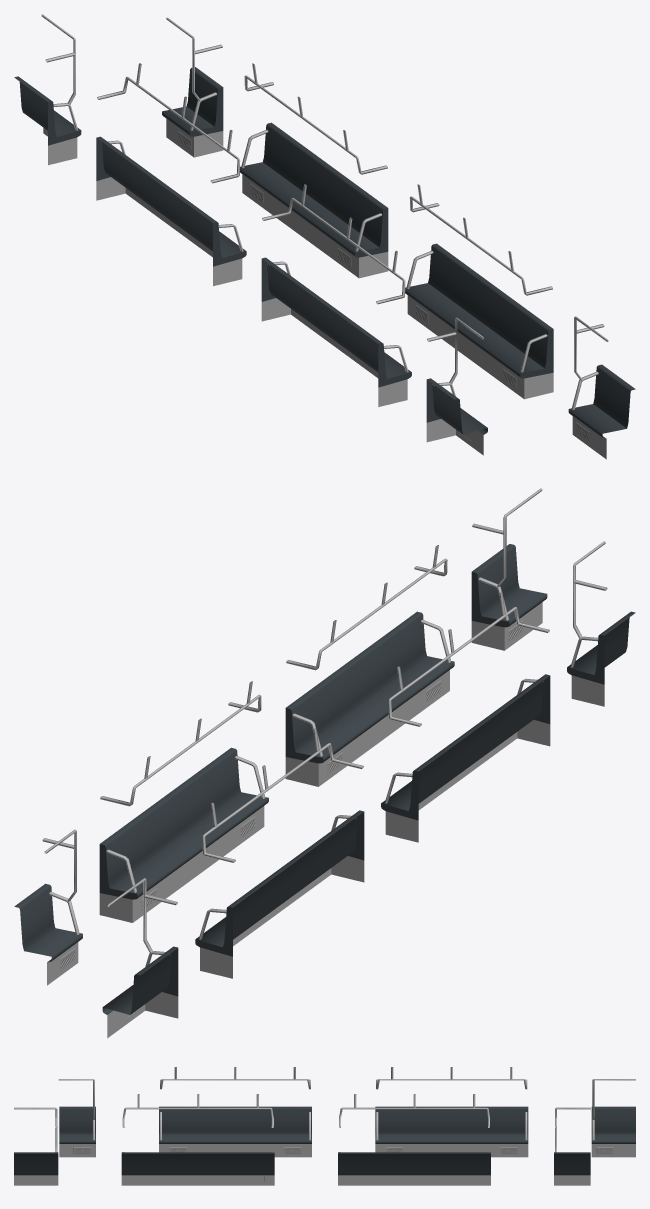
Rendered from SW_VEH_Train_Seating.fbx.
3 views of the same model, one above another, from view 1: azimuth 30°, elevation 25°; view 2: azimuth 150°, elevation 25°; view 3: azimuth 270°, elevation 25° (orthographic). The views are drawn at different scales.
Visible parts, largest first — view 1: SW_VEH_Train_Seating; view 2: SW_VEH_Train_Seating; view 3: SW_VEH_Train_Seating.
Boxes of the visible parts, box(x1,y1,x2,y2) form: SW_VEH_Train_Seating: box(14, 14, 635, 459); SW_VEH_Train_Seating: box(14, 488, 635, 1038); SW_VEH_Train_Seating: box(14, 1067, 635, 1185).
Bounding box in the file's own units: 2.43 × 2.19 × 13.59.
